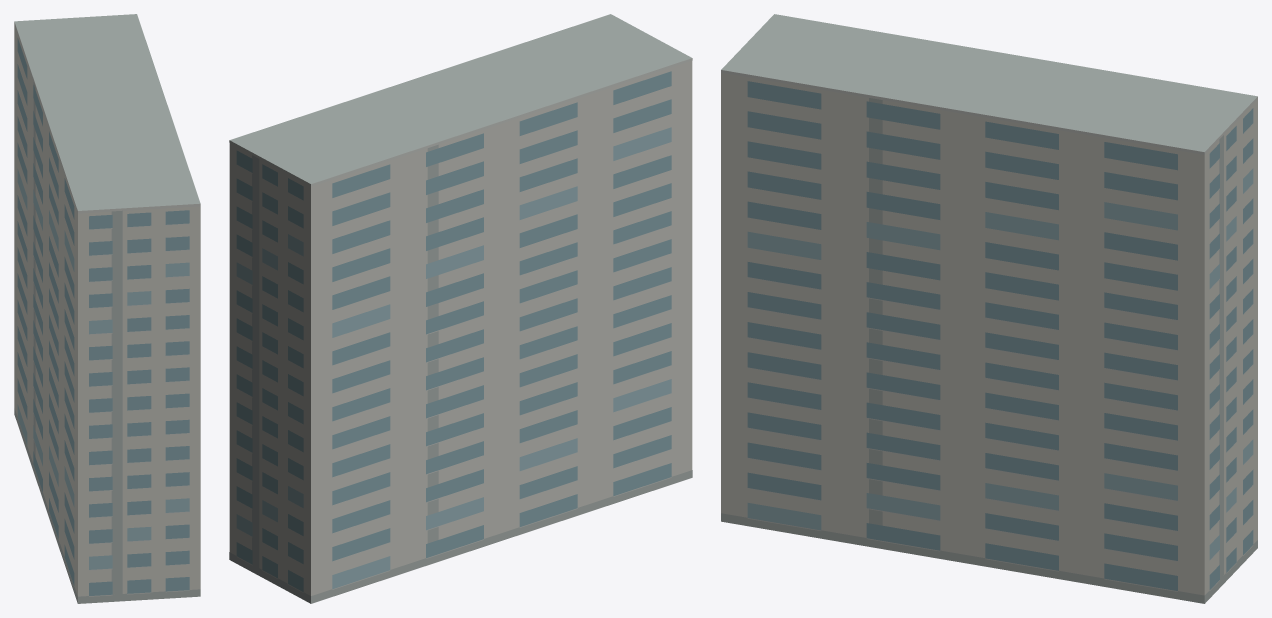
The model's file is residential-403c8f4a-9fcb-46e3-bbde-f4230105fe74.glb.
The picture shows the model from 3 angles, left to right: view 1: azimuth 30°, elevation 25°; view 2: azimuth 150°, elevation 25°; view 3: azimuth 270°, elevation 25°; orthographic projection. The views are drawn at different scales.
Visible parts, largest first — view 1: residential-403c8f4a-9fcb-46e3-bbde-f4230105fe74.tmp; view 2: residential-403c8f4a-9fcb-46e3-bbde-f4230105fe74.tmp; view 3: residential-403c8f4a-9fcb-46e3-bbde-f4230105fe74.tmp.
Boxes of the visible parts, <box> form: residential-403c8f4a-9fcb-46e3-bbde-f4230105fe74.tmp: <box>14,14,200,603</box>; residential-403c8f4a-9fcb-46e3-bbde-f4230105fe74.tmp: <box>229,14,692,603</box>; residential-403c8f4a-9fcb-46e3-bbde-f4230105fe74.tmp: <box>721,14,1257,603</box>.
Size of the model in its own units: 26.25 by 40 by 43.09.
